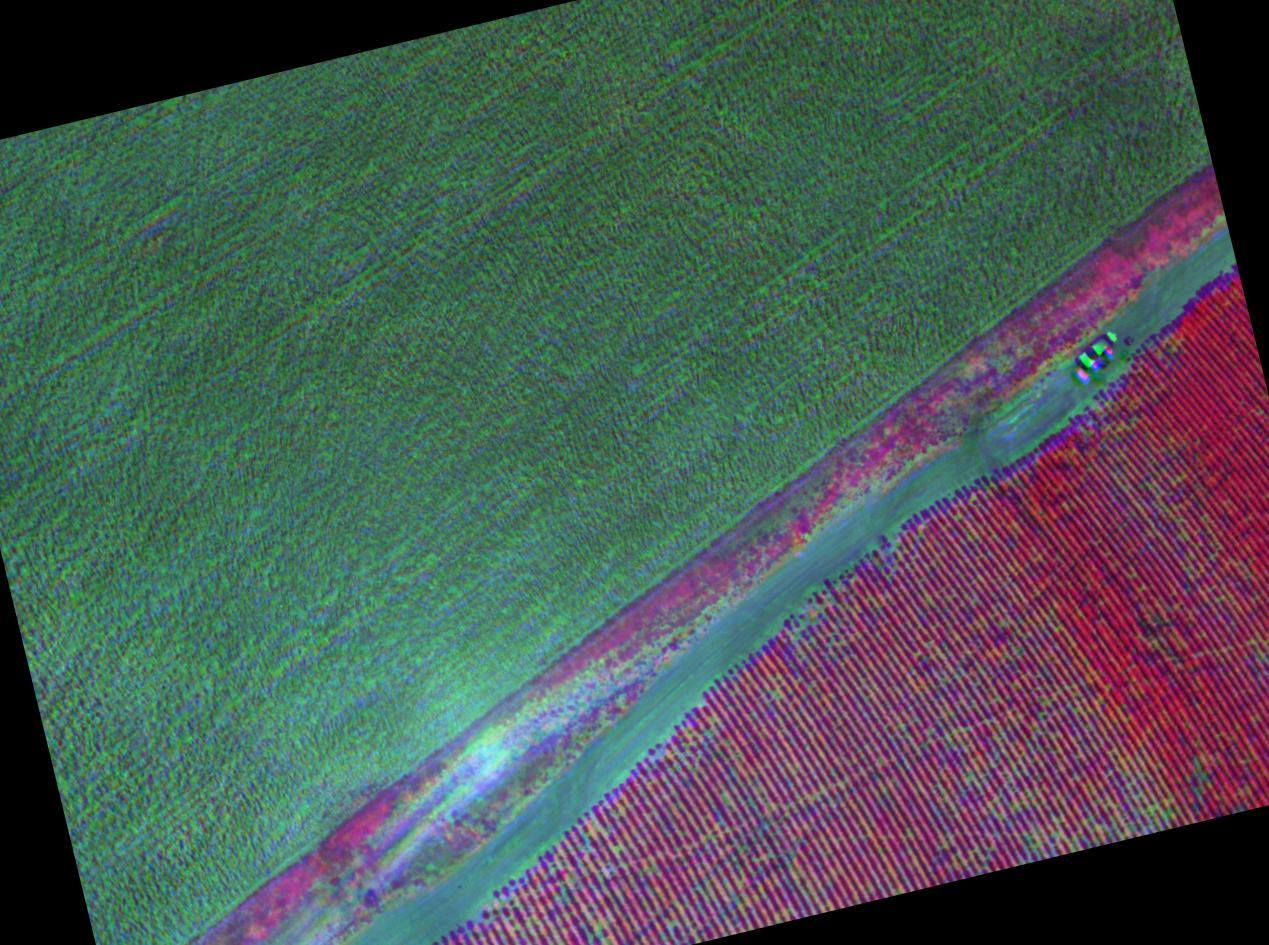dc: (1115, 761, 1178, 831), (711, 764, 763, 836), (1114, 430, 1173, 491), (575, 823, 632, 866), (1017, 807, 1067, 856), (484, 893, 531, 939), (760, 666, 800, 710)
